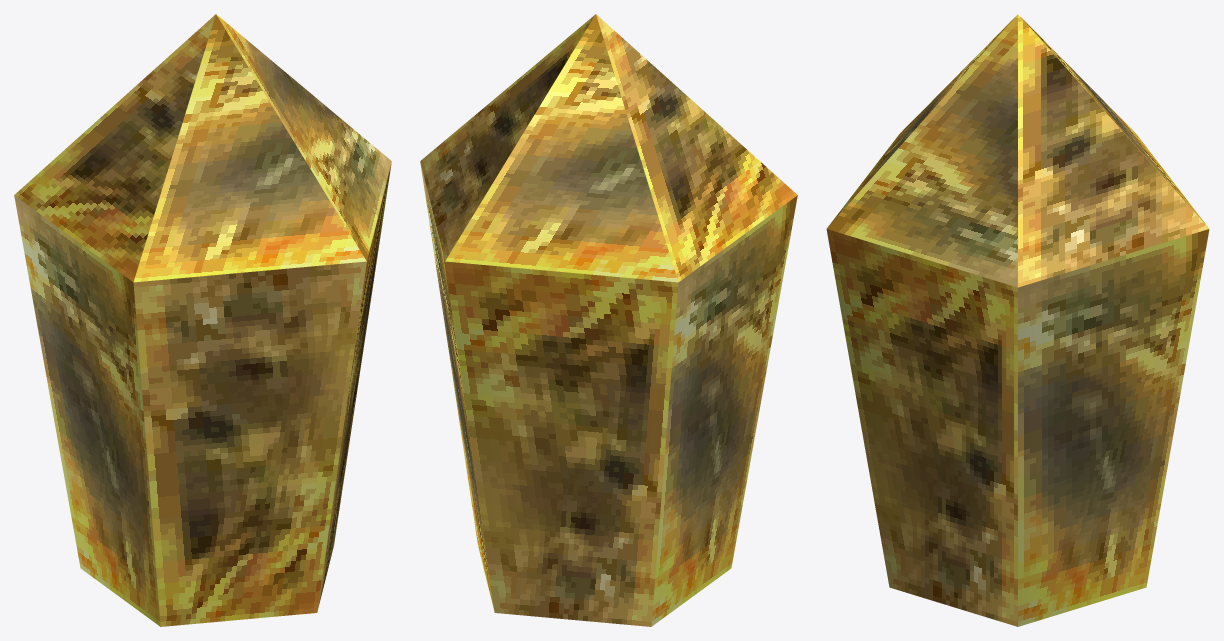
3 views of the same model, side by side, from view 1: azimuth 30°, elevation 25°; view 2: azimuth 150°, elevation 25°; view 3: azimuth 270°, elevation 25° (orthographic).
Visible parts, largest first — view 1: MN_04-col; view 2: MN_04-col; view 3: MN_04-col.
Boxes of the visible parts, <box> form: MN_04-col: <box>14,14,391,626</box>; MN_04-col: <box>420,14,797,626</box>; MN_04-col: <box>826,14,1209,626</box>.
Size of the model in its own units: 0.2143 by 0.3861 by 0.2253.
Materials: 1 (1 with a texture image).
